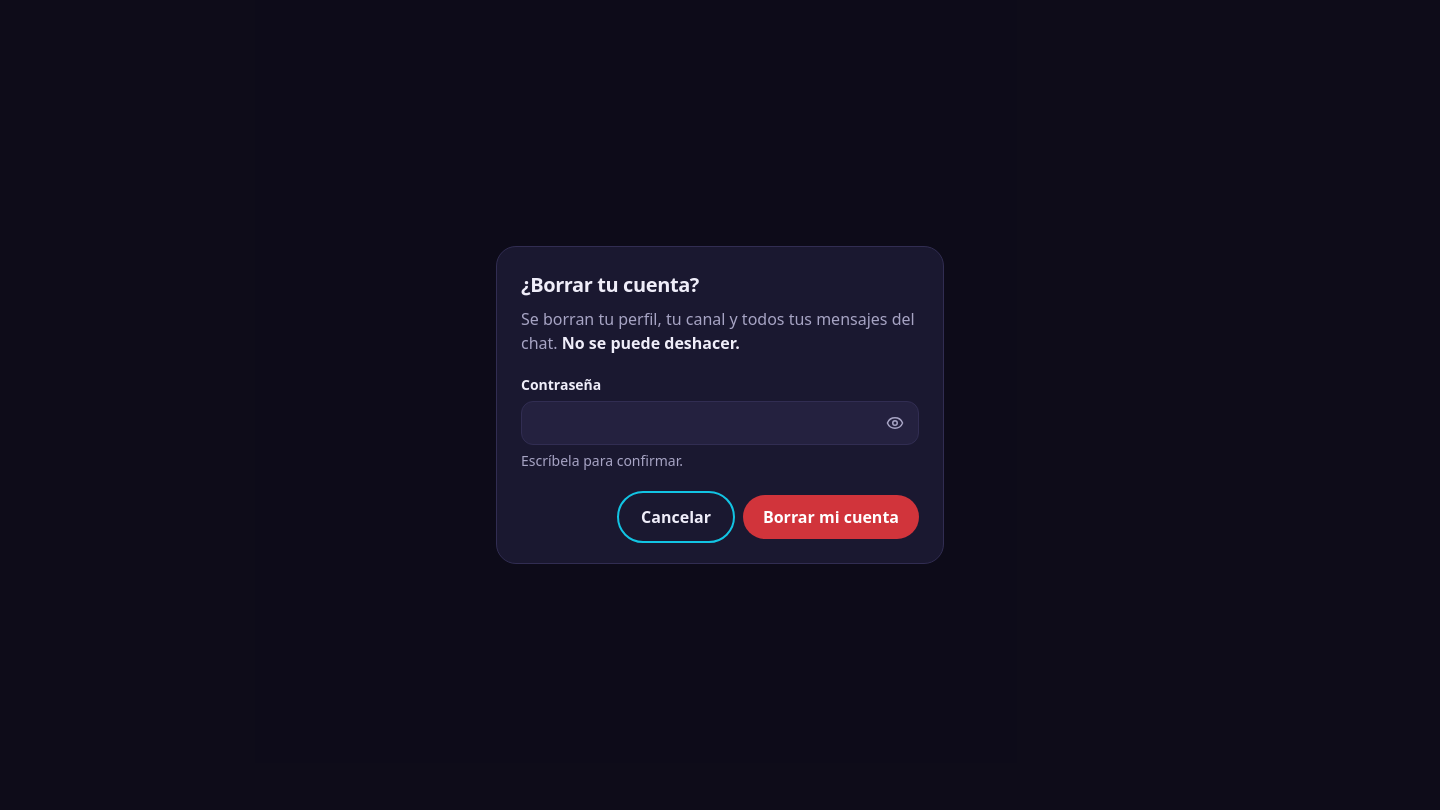
Test: DeleteAccountModal › TOO_MANY_REQUESTS muestra el mensaje de espera
The width and height of the screenshot is (1440, 810).
Type "secreta1" into the password field labelled "Contraseña" at [720, 423], box [521,401,919,445]
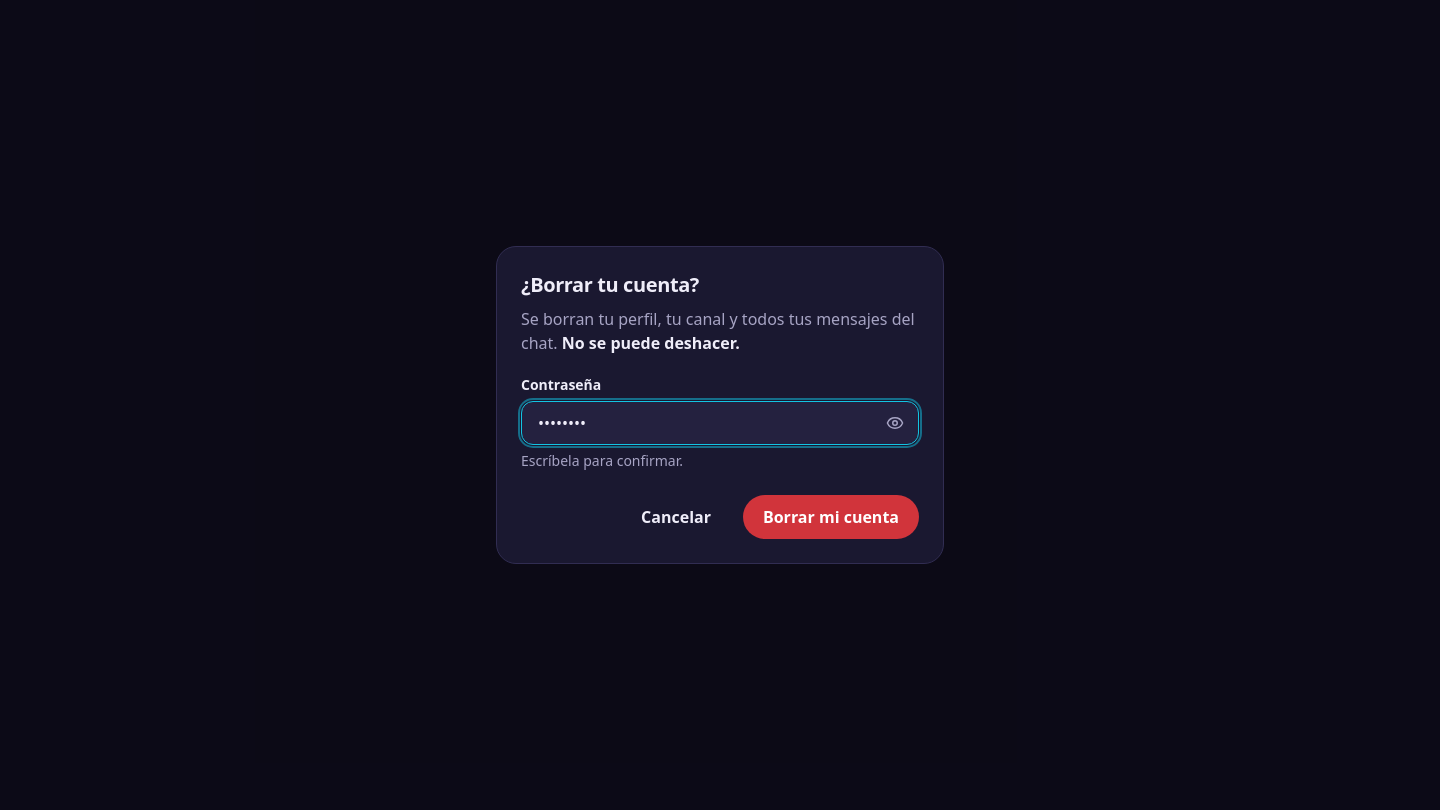
Click the button "Borrar mi cuenta" at [831, 517], box [743,495,919,539]
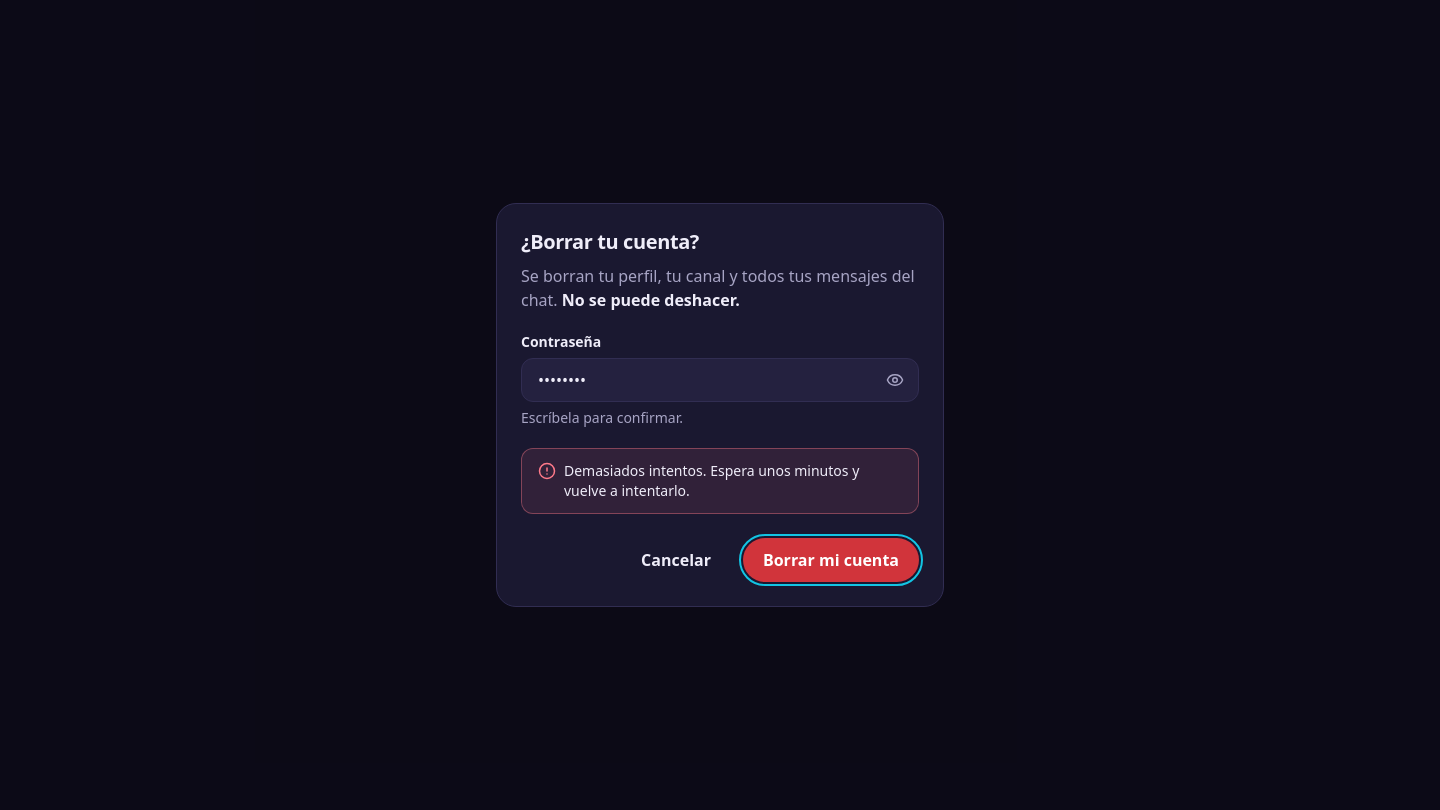
Expected: the message reads "Demasiados intentos. Espera unos minutos y vuelve a intentarlo.", [564,461,859,500]
